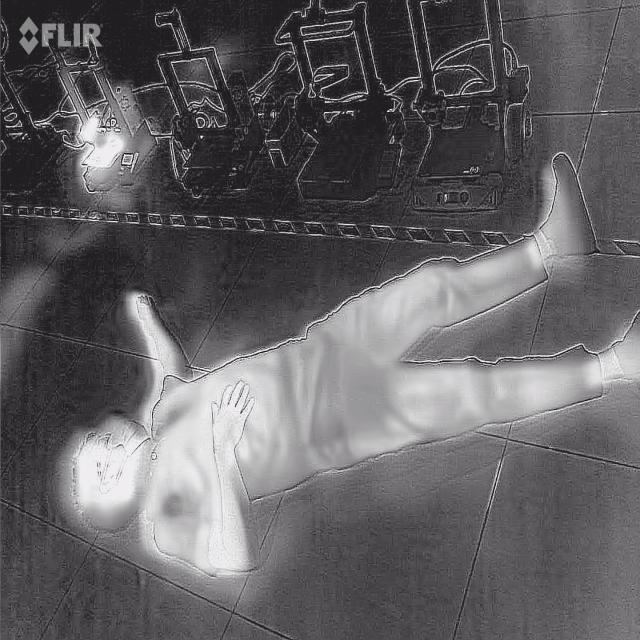Victim: (56, 141, 638, 586)
